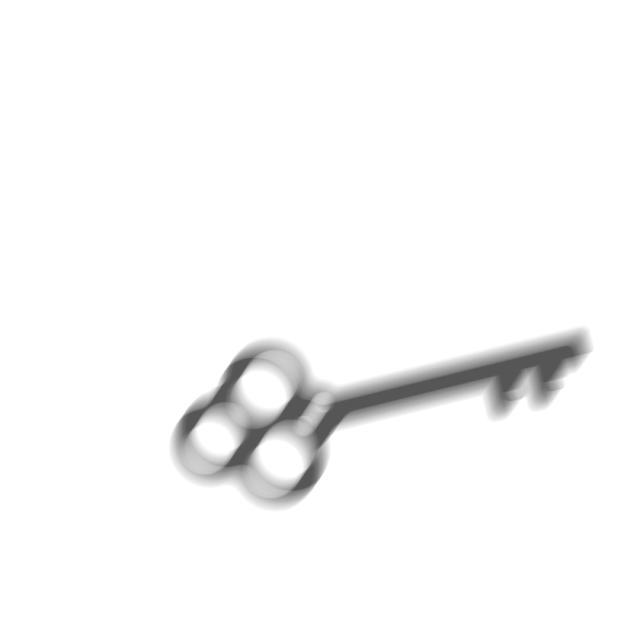diamond: (165, 323, 599, 524)
